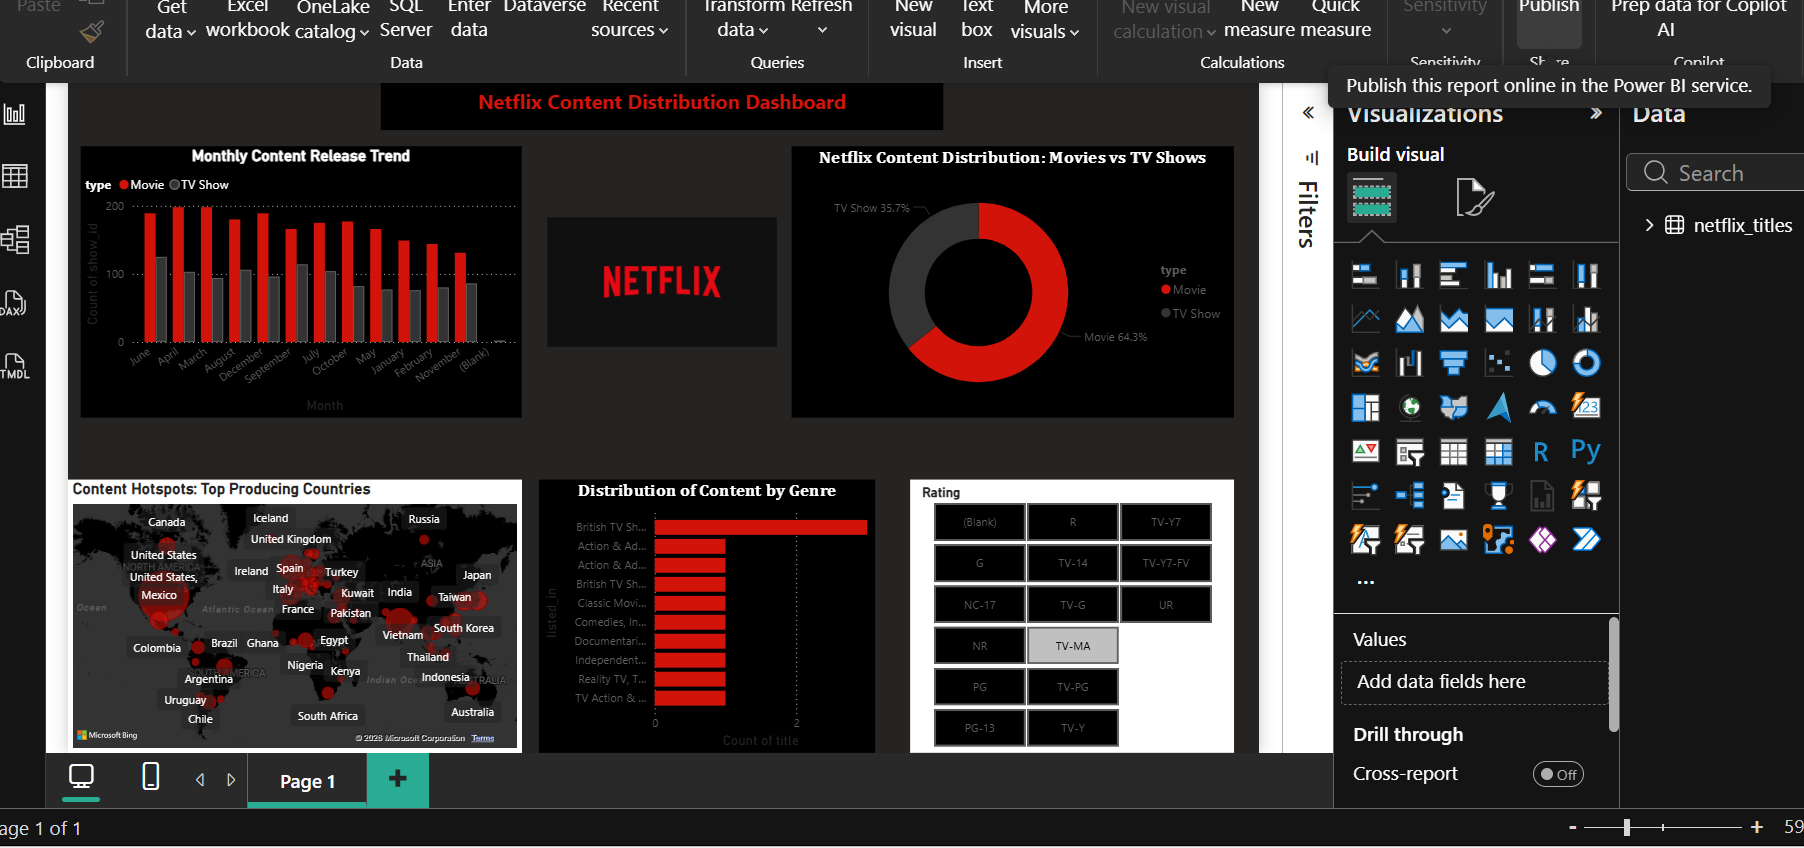

This screenshot's page, from the dashboard's own definition file:
{"tool":"powerbi","page":{"name":"Page 1","canvas":[1280,720],"ordinal":0},"visuals":[{"type":"donutChart","title":"Netflix Content Distribution: Movies vs TV Shows","fields":{"Category":["netflix_titles.type"],"Y":["CountNonNull(netflix_titles.type)"]},"box":[777.7,67.9,475.5,292.1],"z":0},{"type":"map","title":"Content Hotspots: Top Producing Countries","fields":{"Category":["netflix_titles.country"],"Size":["CountNonNull(netflix_titles.show_id)"]},"box":[0,426.2,487.3,293.8],"z":1000},{"type":"clusteredColumnChart","title":"Monthly Content Release Trend","fields":{"Category":["netflix_titles.Month"],"Y":["CountNonNull(netflix_titles.show_id)"],"Series":["netflix_titles.type"]},"box":[13.6,67.9,473.8,292.1],"z":2000},{"type":"slicer","fields":{"Values":["netflix_titles.rating"]},"box":[905.1,426.2,348.1,293.8],"z":3000},{"type":"textbox","box":[336.2,0,604.5,50.9],"z":4000},{"type":"image","box":[424.5,144.3,427.9,139.2],"z":5000},{"type":"clusteredBarChart","title":"Distribution of Content by Genre","fields":{"Category":["netflix_titles.listed_in"],"Y":["CountNonNull(netflix_titles.title)"]},"box":[506,426.2,361.7,293.8],"z":6000}]}

Visuals, with their boxes on the page's 1280x720 design canvas (x1, y1, x2, y2). These are canvas units, not pixel positions in the 1804x848 screenshot, which may show the page scaled, cropped or inside an application window:
"Netflix Content Distribution: Movies vs TV Shows" donutChart: 778,68,1253,360
"Content Hotspots: Top Producing Countries" map: 0,426,487,720
"Monthly Content Release Trend" clusteredColumnChart: 14,68,487,360
slicer - netflix_titles.rating: 905,426,1253,720
textbox: 336,0,941,51
image: 424,144,852,284
"Distribution of Content by Genre" clusteredBarChart: 506,426,868,720
